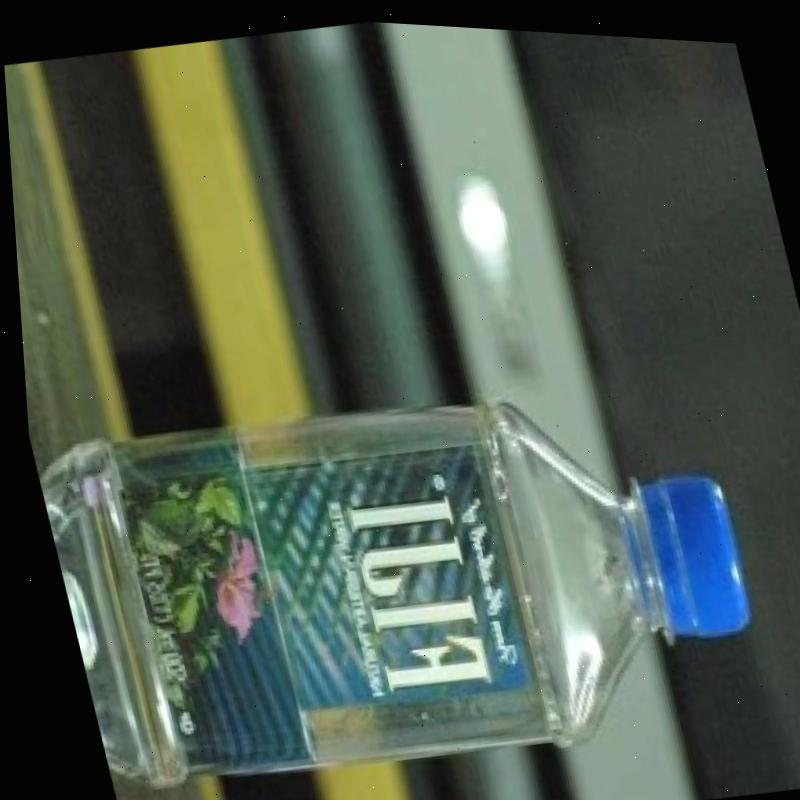botella: (19, 327, 777, 800)
